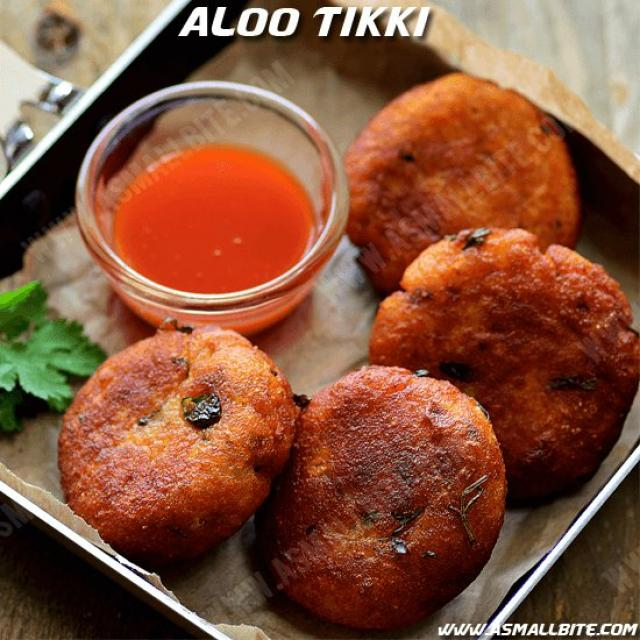Aloo Tikki: (373, 230, 640, 511), (256, 364, 506, 633), (60, 324, 298, 578), (345, 75, 577, 297)
